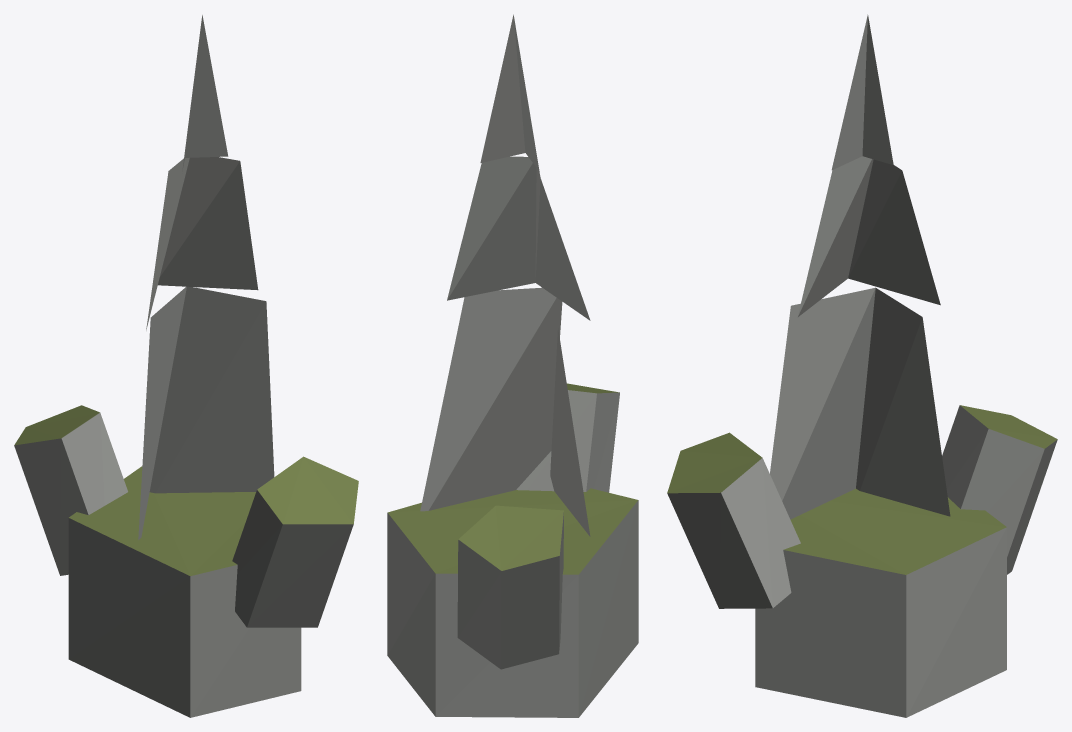
Rendered from rock.spire__outcrop__autumn.glb.
3 views of the same model, side by side, from view 1: azimuth 30°, elevation 25°; view 2: azimuth 150°, elevation 25°; view 3: azimuth 270°, elevation 25° (orthographic).
Parts seen in each view (by area): view 1: rock.spire; view 2: rock.spire; view 3: rock.spire.
Part boxes in pixels (x1=…): rock.spire: x1=14, y1=15, x2=358, y2=717; rock.spire: x1=387, y1=14, x2=638, y2=717; rock.spire: x1=667, y1=14, x2=1057, y2=717.
Bounding box in the file's own units: 0.8356 × 2.32 × 1.26.
